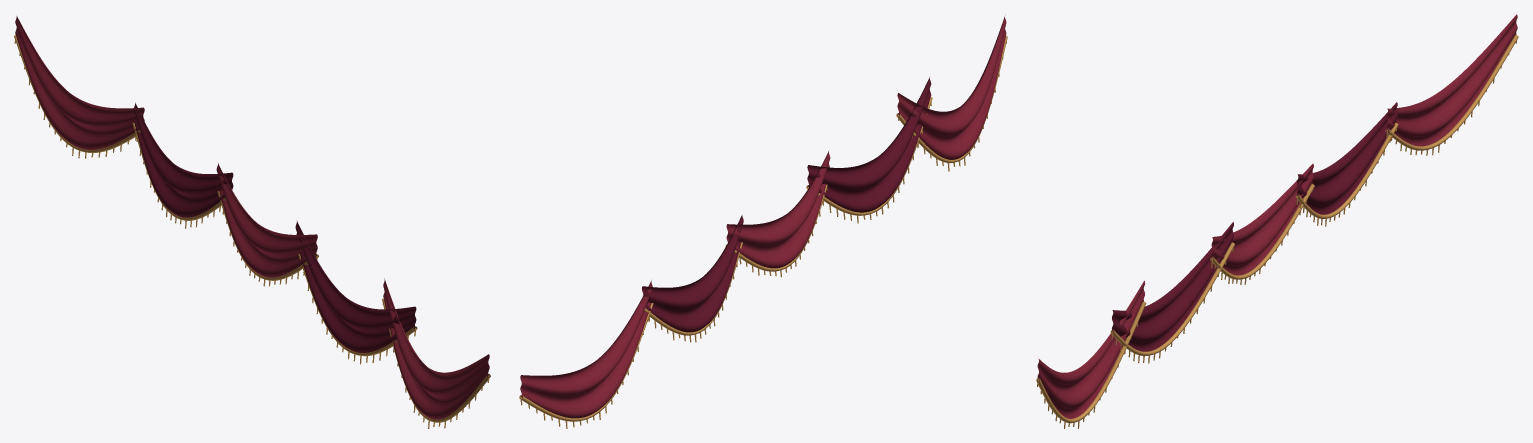
Rendered from SM_Menu_Valance.fbx.
The picture shows the model from 3 angles, left to right: view 1: azimuth 30°, elevation 25°; view 2: azimuth 150°, elevation 25°; view 3: azimuth 330°, elevation 25°; orthographic projection. The views are drawn at different scales.
Parts seen in each view (by area): view 1: SM_Menu_Valance; view 2: SM_Menu_Valance; view 3: SM_Menu_Valance.
Part boxes in pixels (<box>): SM_Menu_Valance: <box>14,16,490,428</box>; SM_Menu_Valance: <box>519,16,1007,428</box>; SM_Menu_Valance: <box>1036,14,1518,428</box>.
Size of the model in its own units: 21.49 by 1113 by 141.
